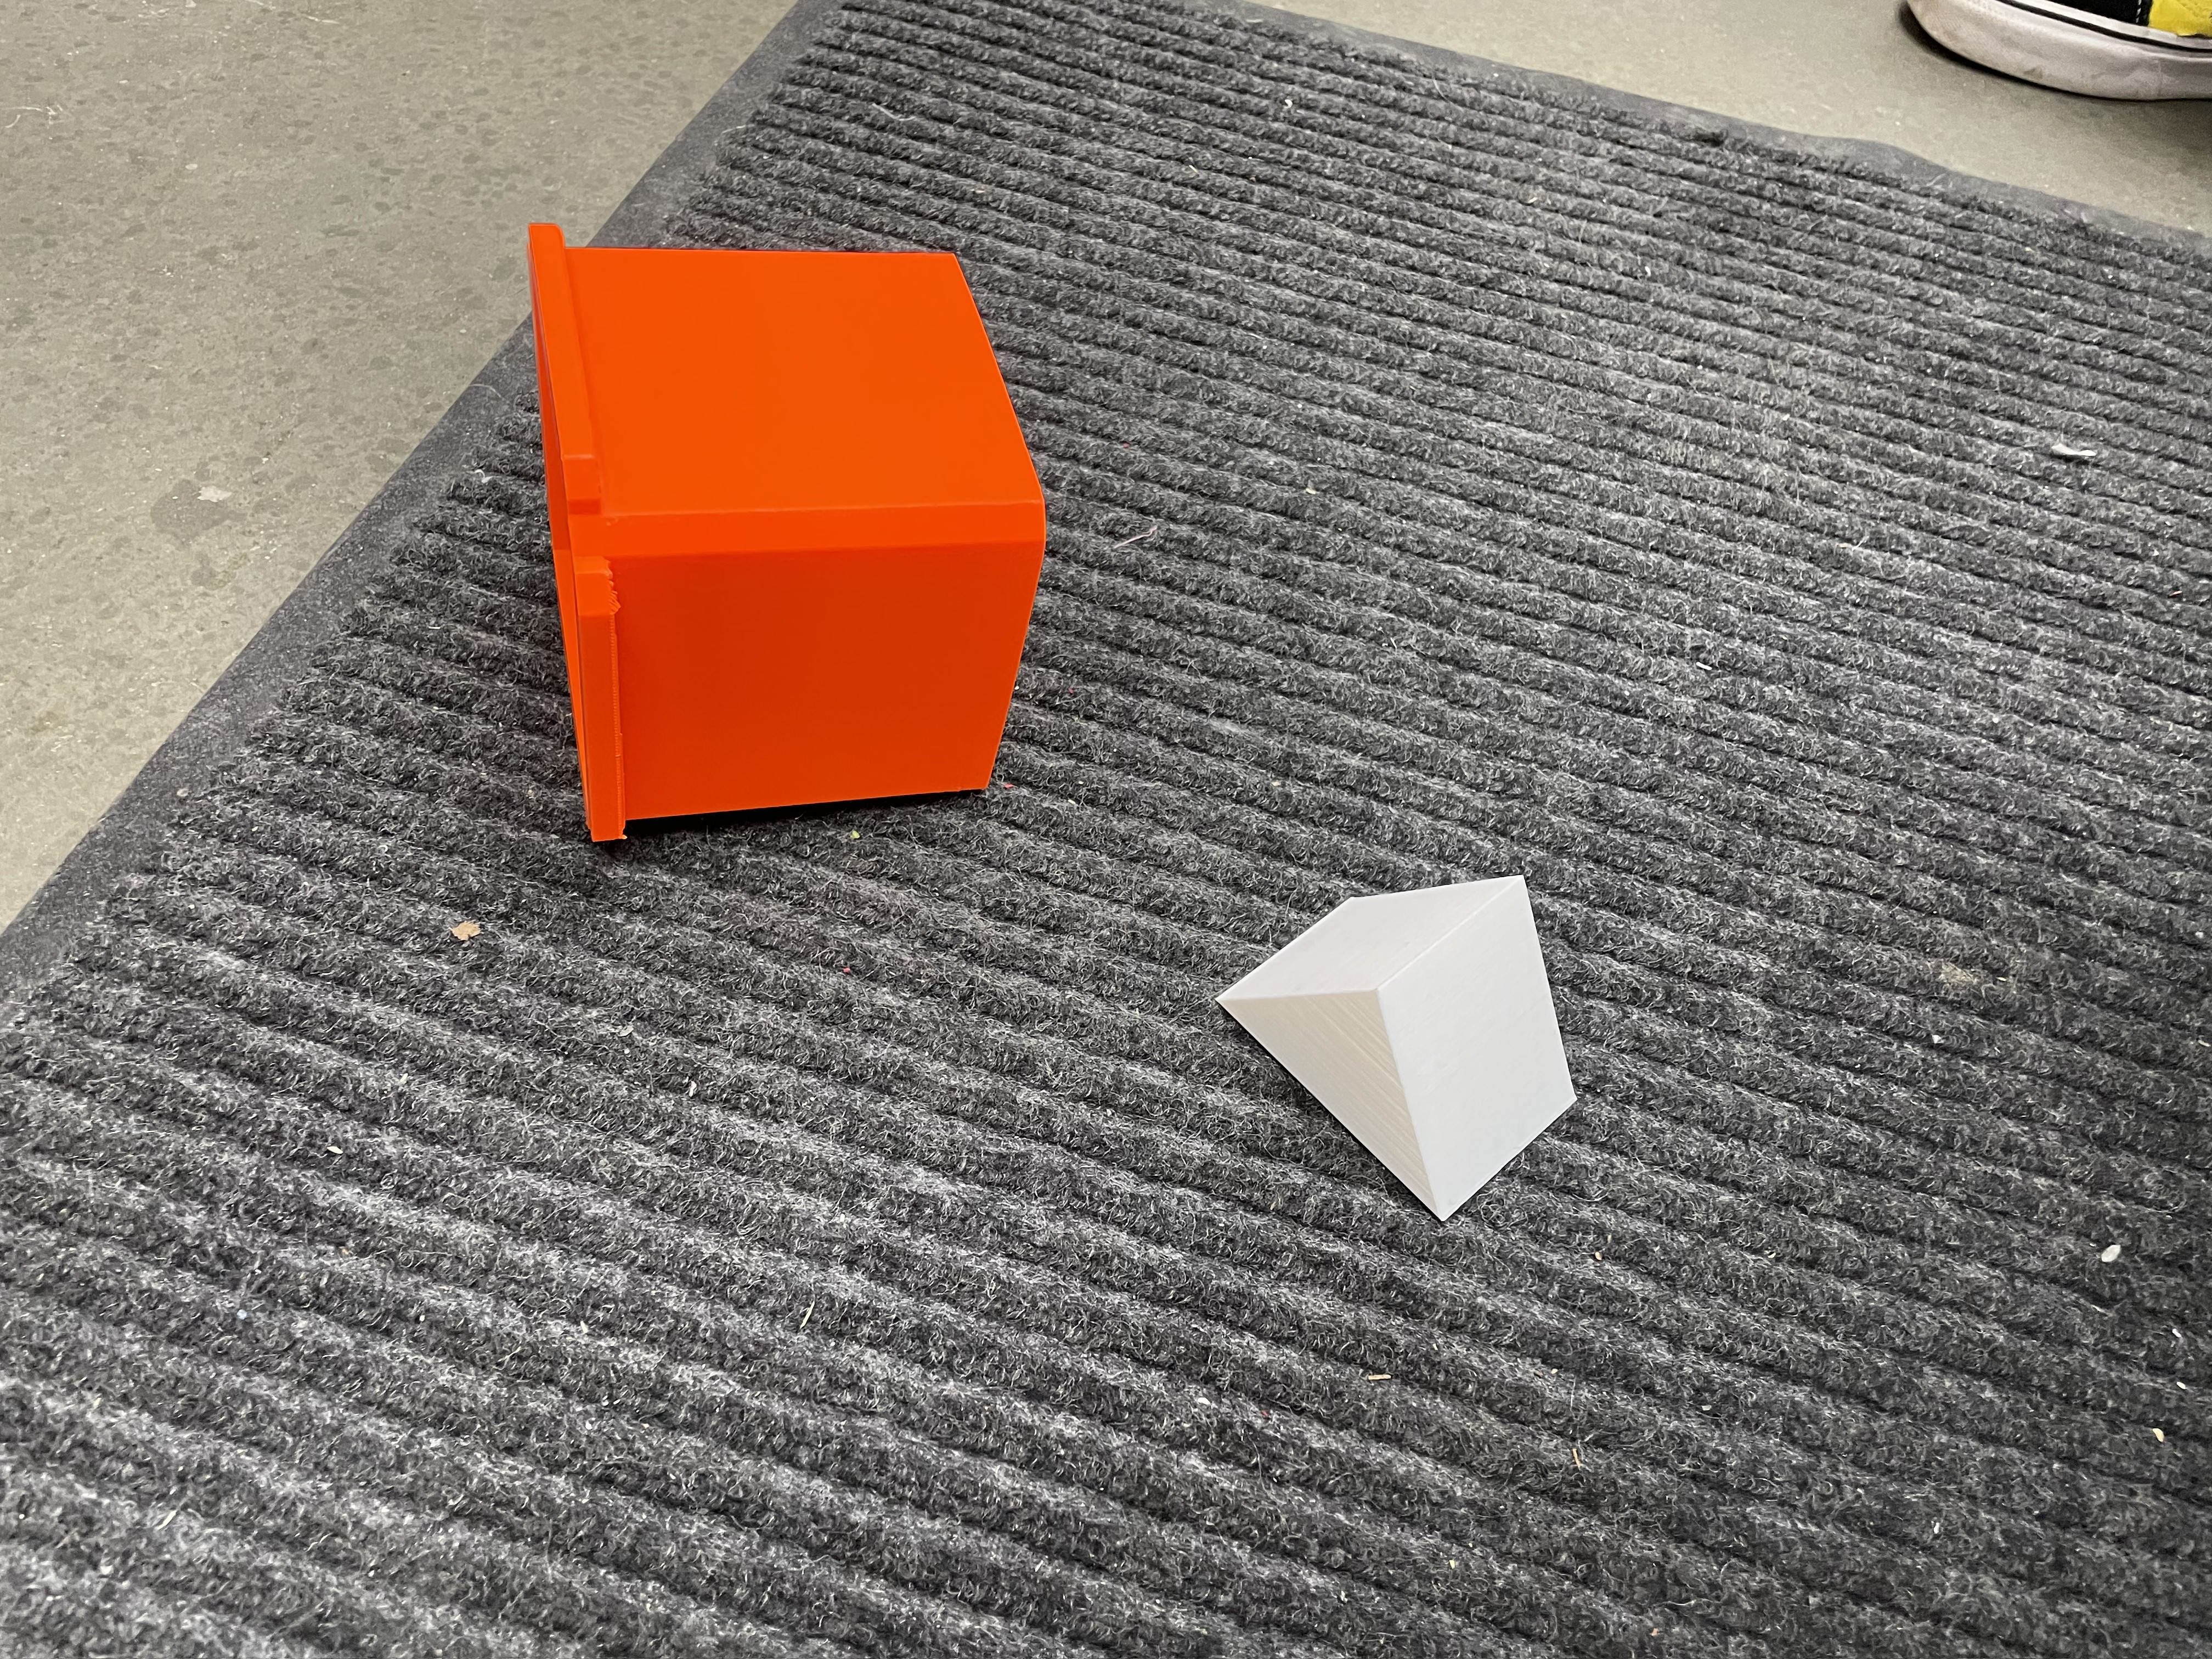payload1: (495, 202, 1104, 890), (1207, 843, 1606, 1239)
